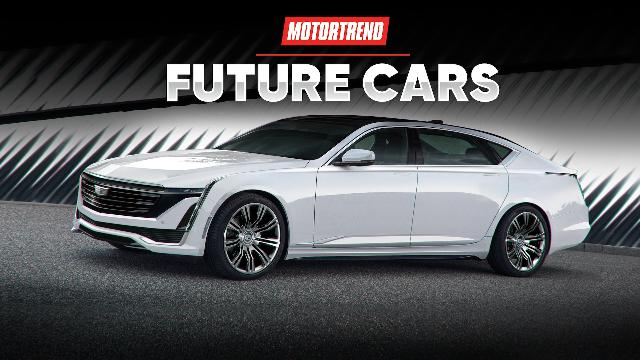cadillac: (70, 115, 592, 280)
